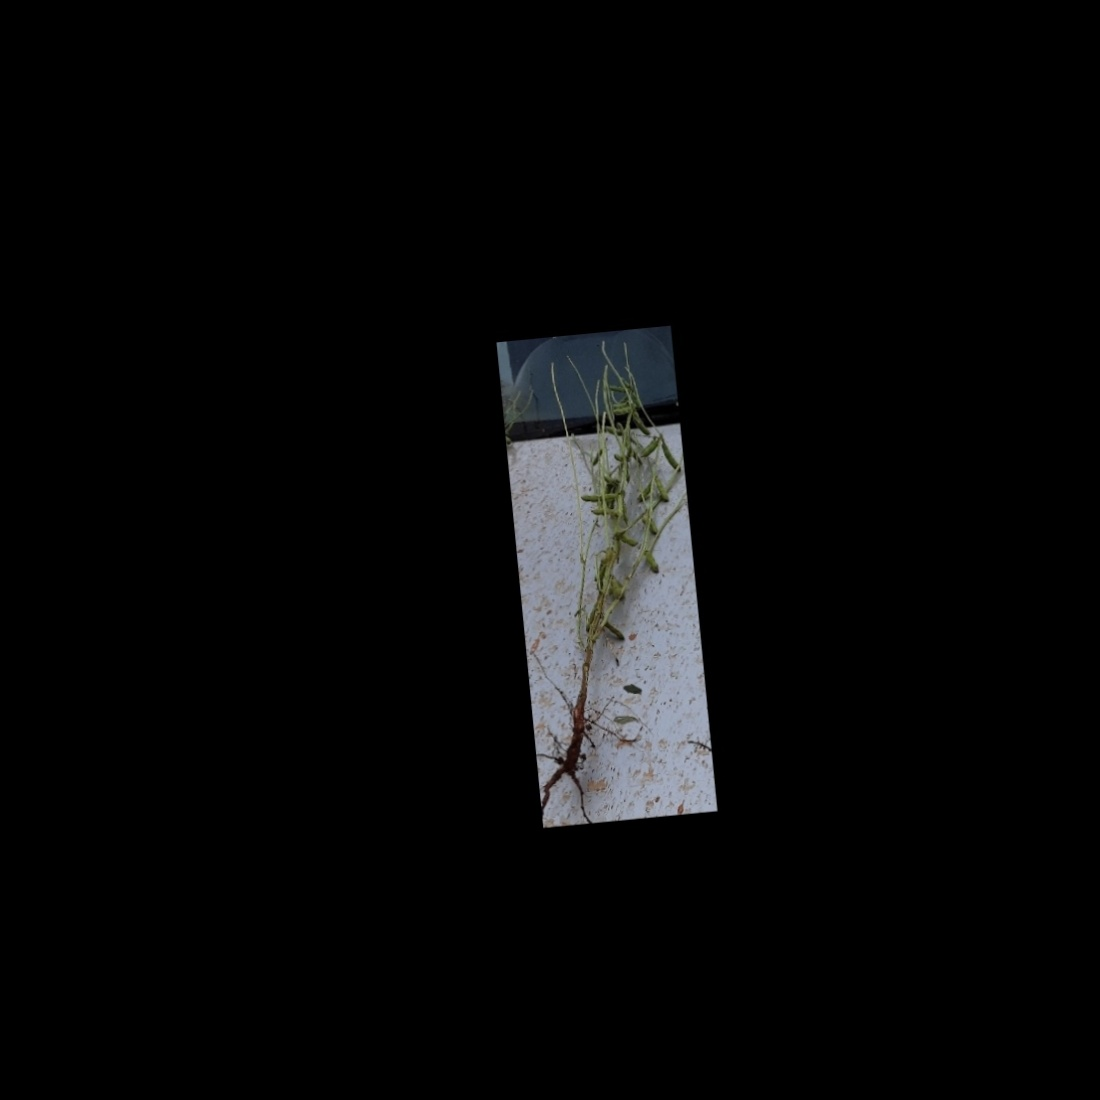pod: (652, 470, 672, 508), (660, 437, 680, 474), (635, 433, 663, 459), (602, 618, 630, 645), (644, 548, 661, 576), (610, 404, 636, 417)
soy: (502, 339, 712, 802)
